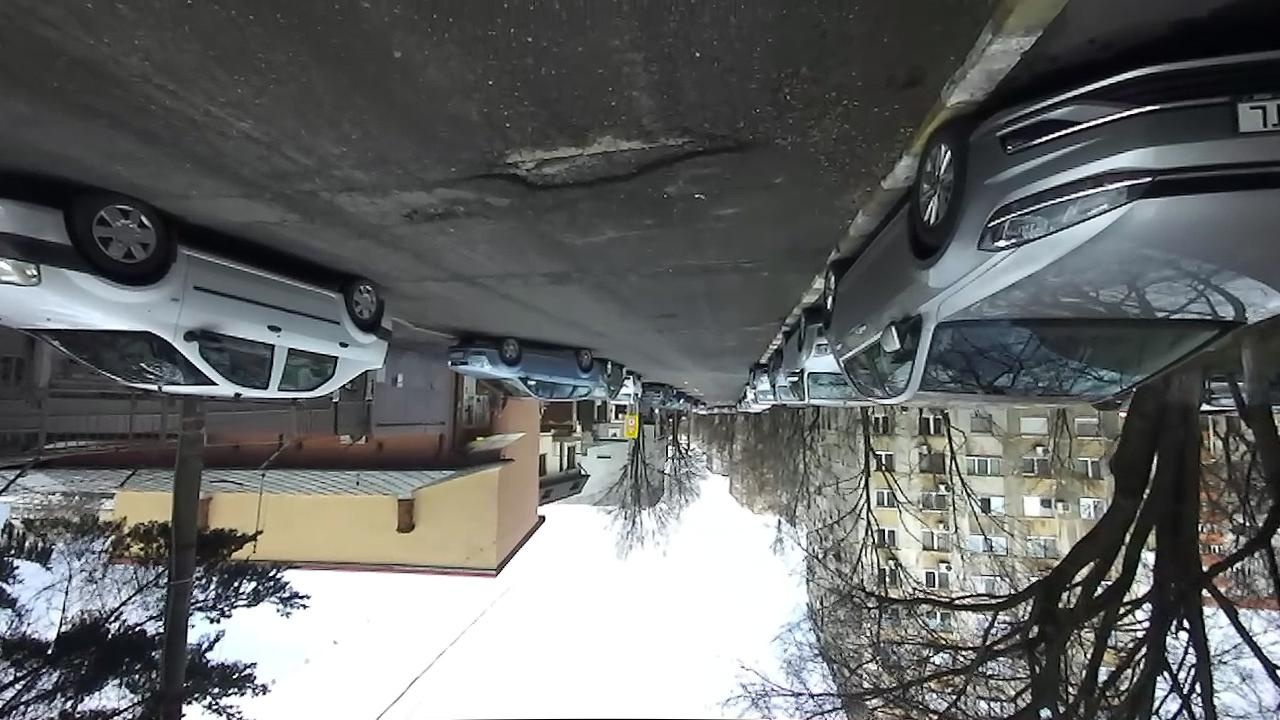pothole: (448, 118, 757, 195), (396, 202, 481, 231)
